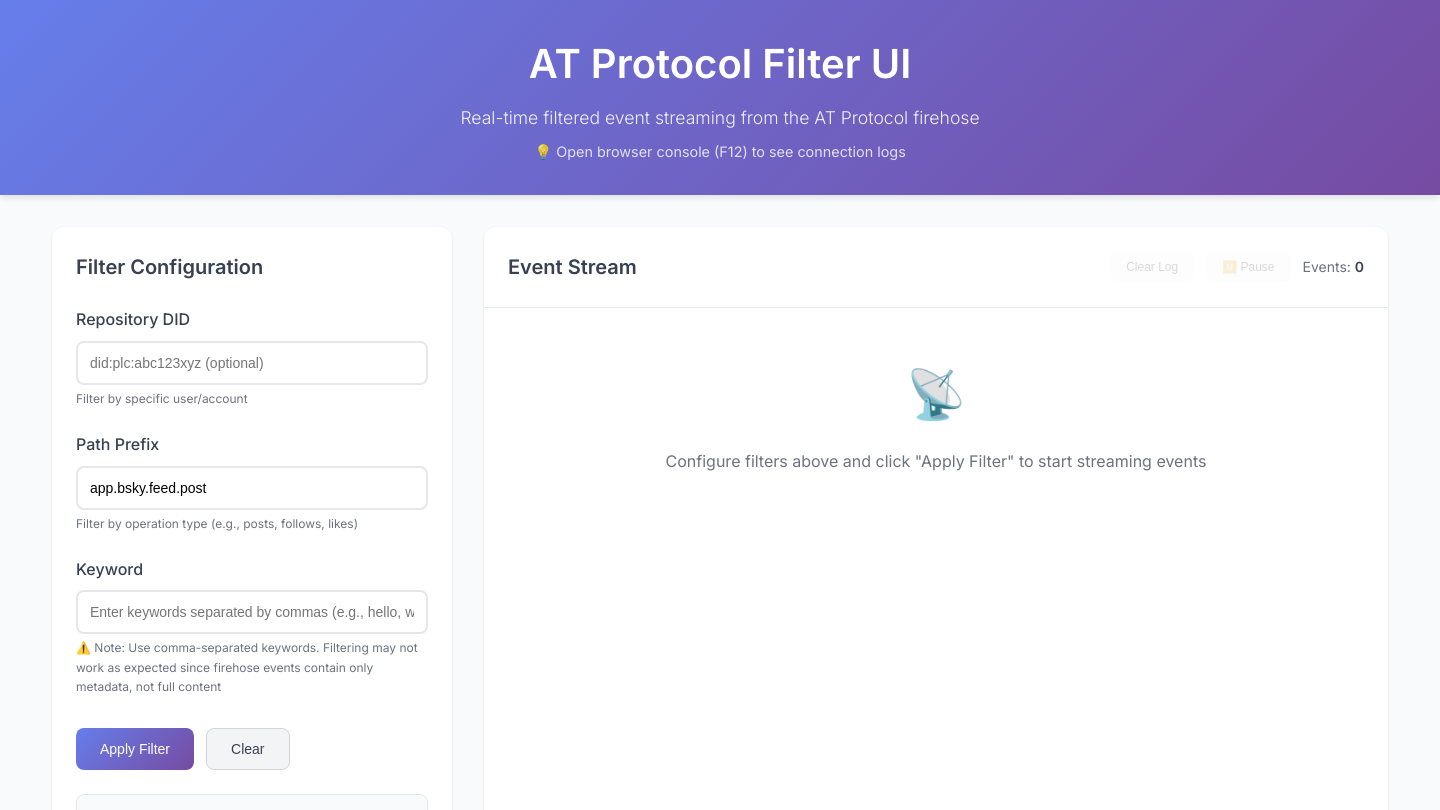
Scenario: App Integration Tests › clears and resets properly
In the field labelled "Repository DID": (252, 363) [76,341,428,385], type "did:plc:test"
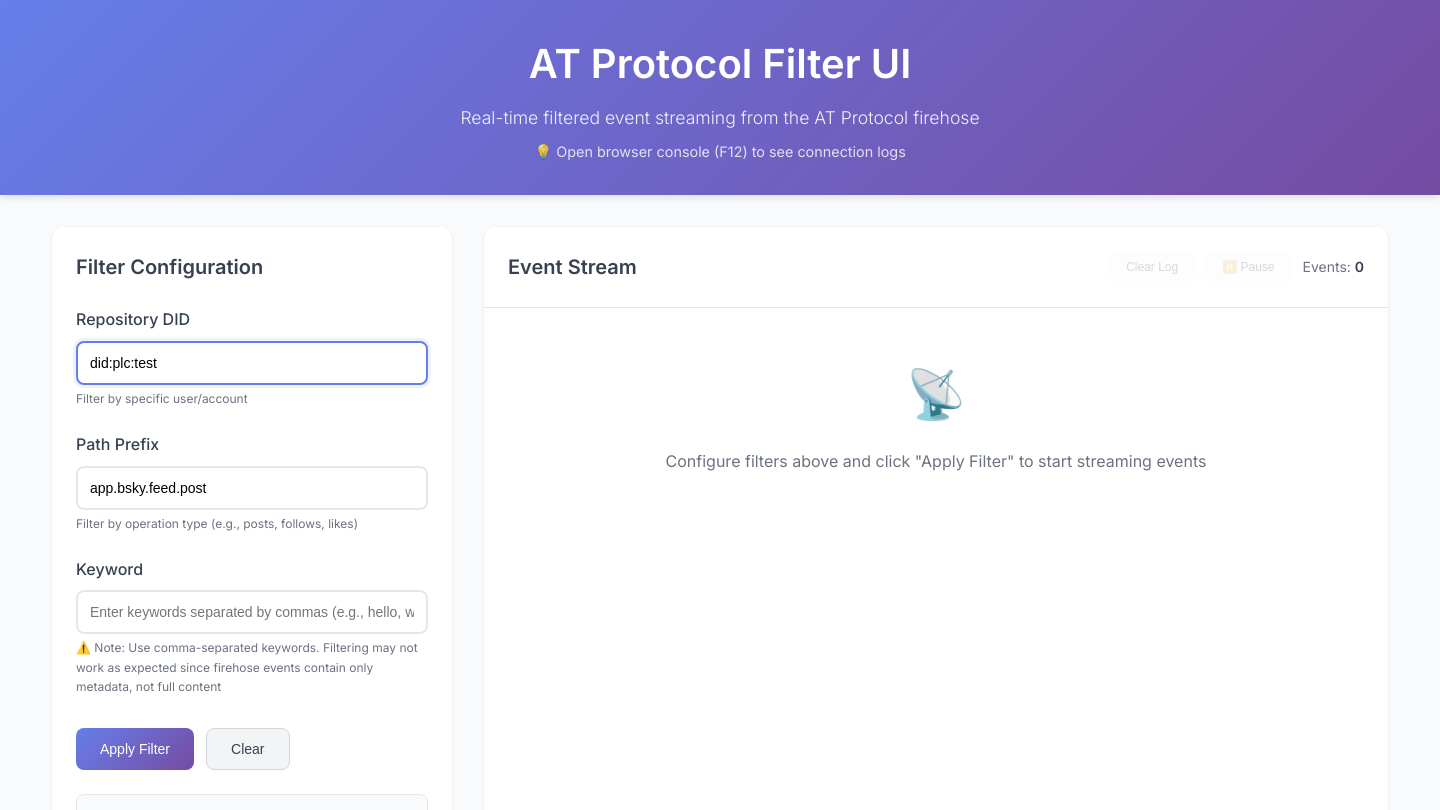
In the field labelled "Keyword": (252, 612) [76,590,428,634], type "test keyword"
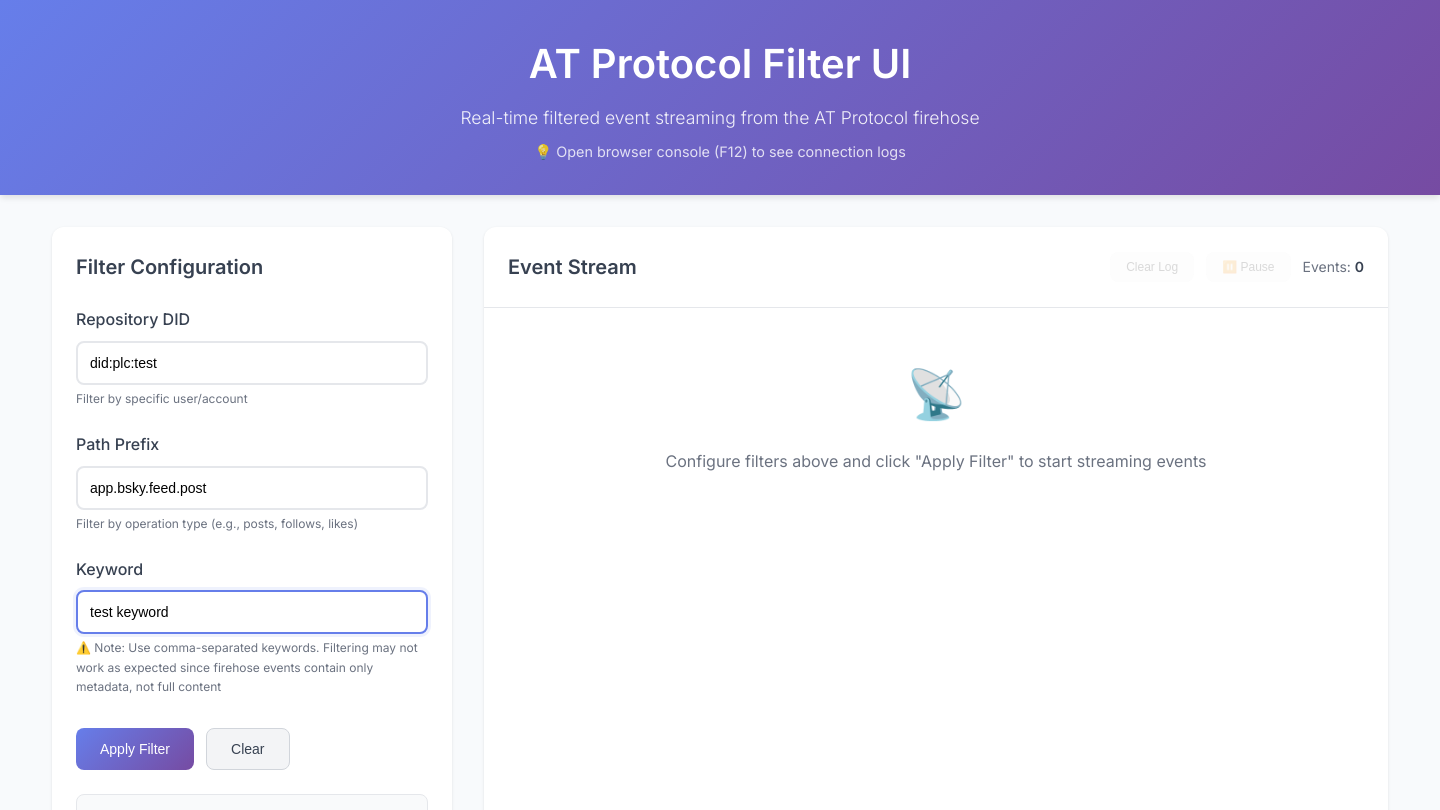
# Clear form - be specific about which clear button
Click the button "Clear": (248, 749) [206,728,290,770]
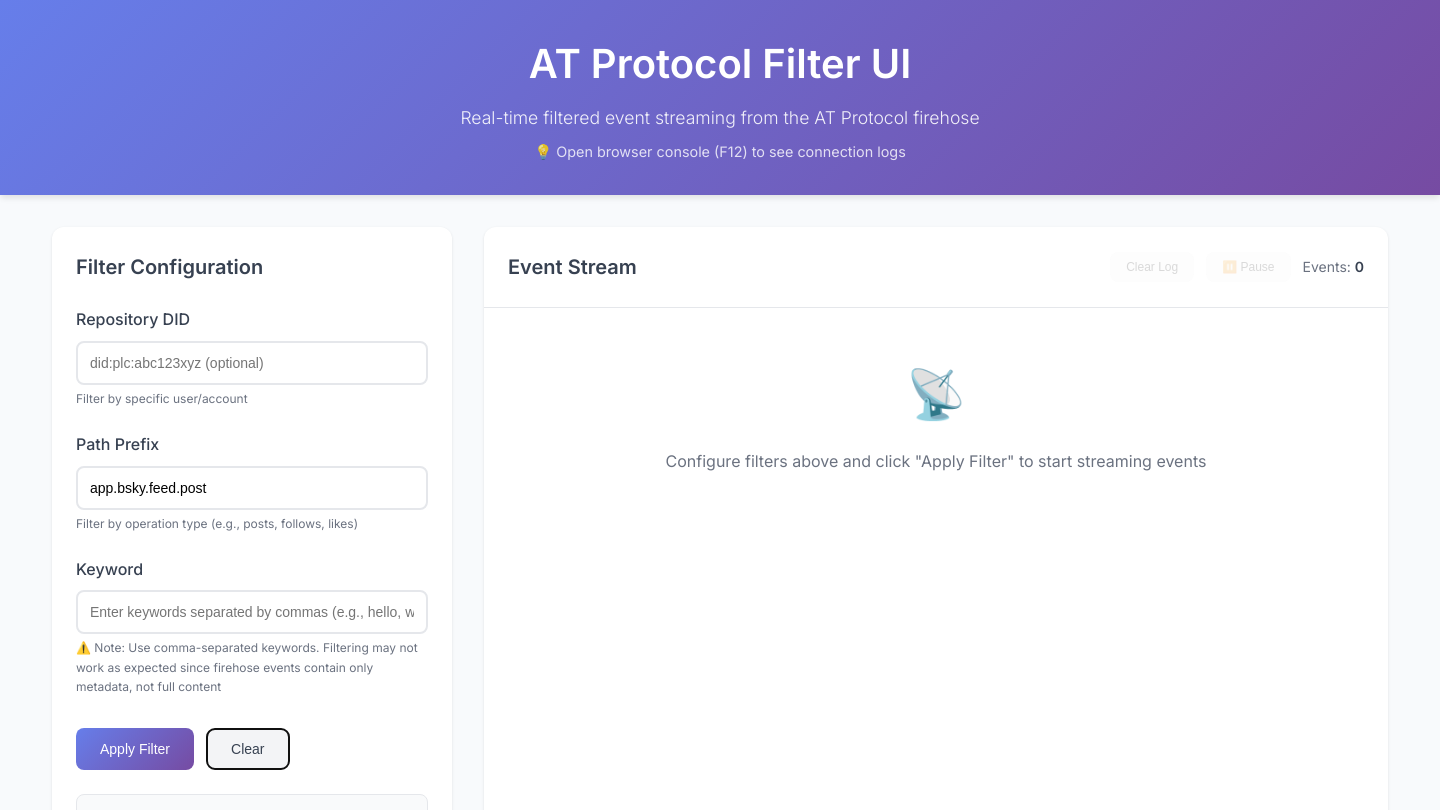
Expected: the field labelled "Path Prefix" holds "app.bsky.feed.post", [76,466,428,510]
Expected: the field labelled "Repository DID" is empty, [76,341,428,385]
Expected: the field labelled "Keyword" is empty, [76,590,428,634]
